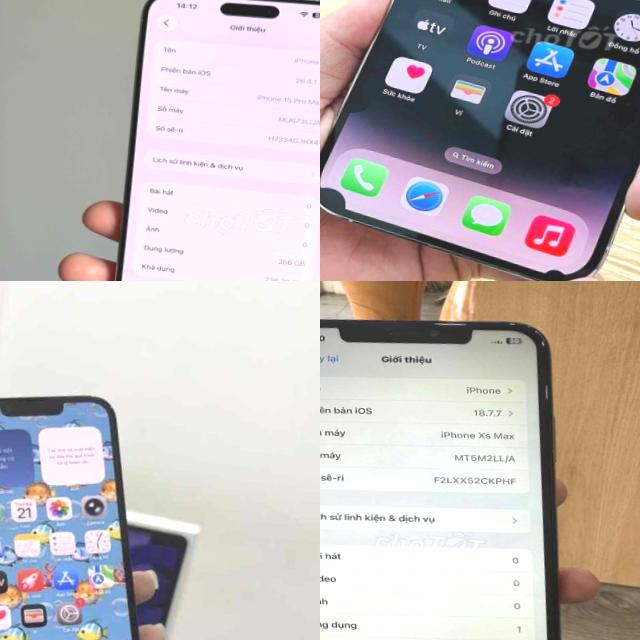screen_defect: (320, 183, 349, 208), (541, 267, 564, 276)
